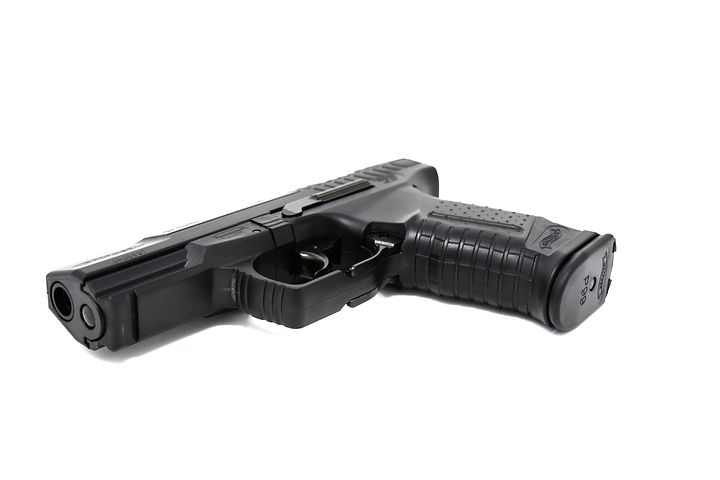gun: (40, 152, 625, 368)
